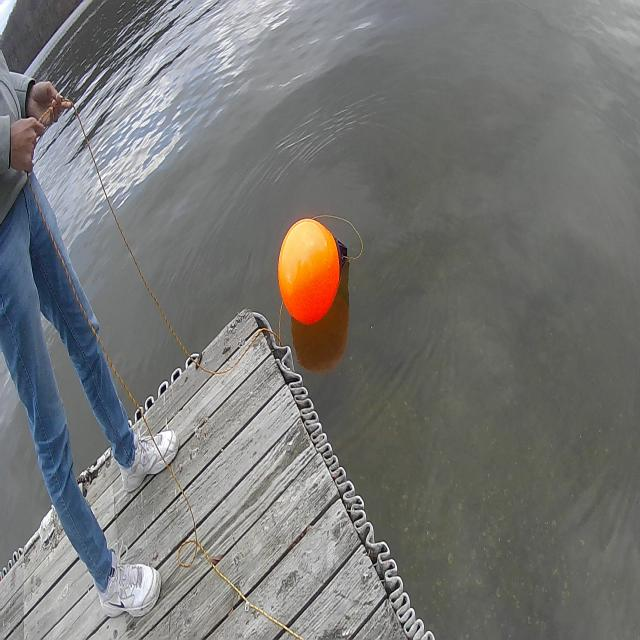Buoy: (272, 214, 345, 332)
